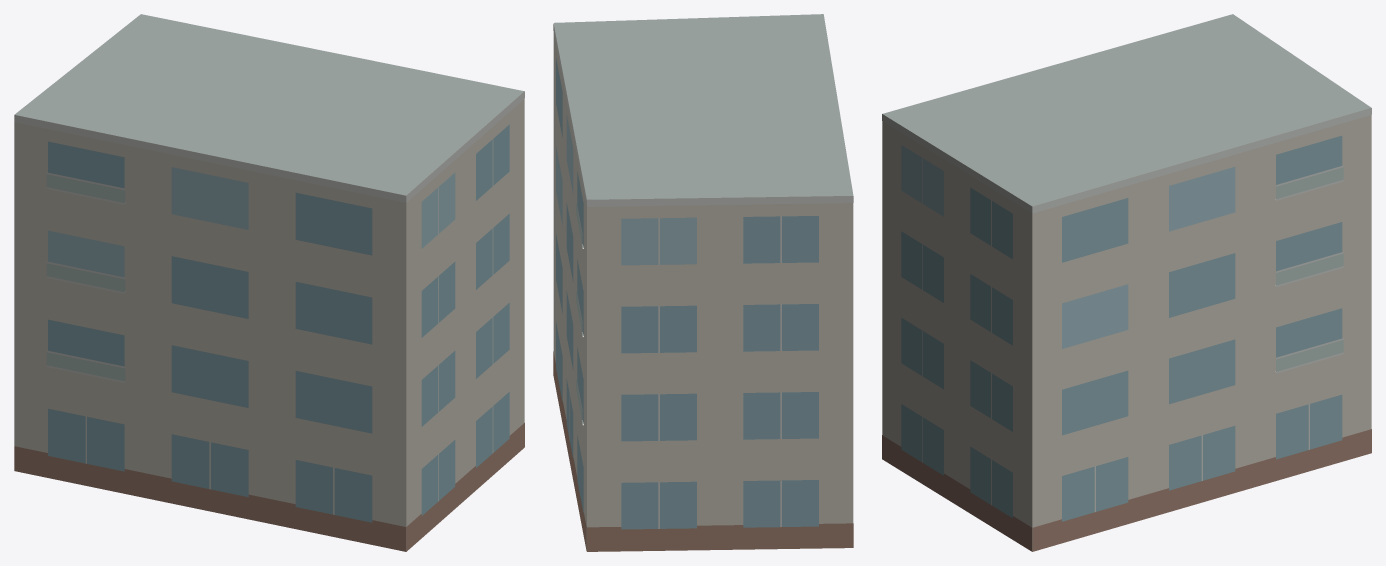
Rendered from survey-upis-32802053.glb.
3 renders of one model, left to right at view 1: azimuth 30°, elevation 25°; view 2: azimuth 150°, elevation 25°; view 3: azimuth 270°, elevation 25°, orthographic. The views are drawn at different scales.
Parts seen in each view (by area): view 1: survey-upis-32802053.tmp; view 2: survey-upis-32802053.tmp; view 3: survey-upis-32802053.tmp.
Part boxes in pixels (x1,y1,x2,y2): survey-upis-32802053.tmp: (14,14,524,551); survey-upis-32802053.tmp: (553,14,853,551); survey-upis-32802053.tmp: (882,14,1371,551).
Bounding box in the file's own units: 14.36 × 12 × 15.43.
